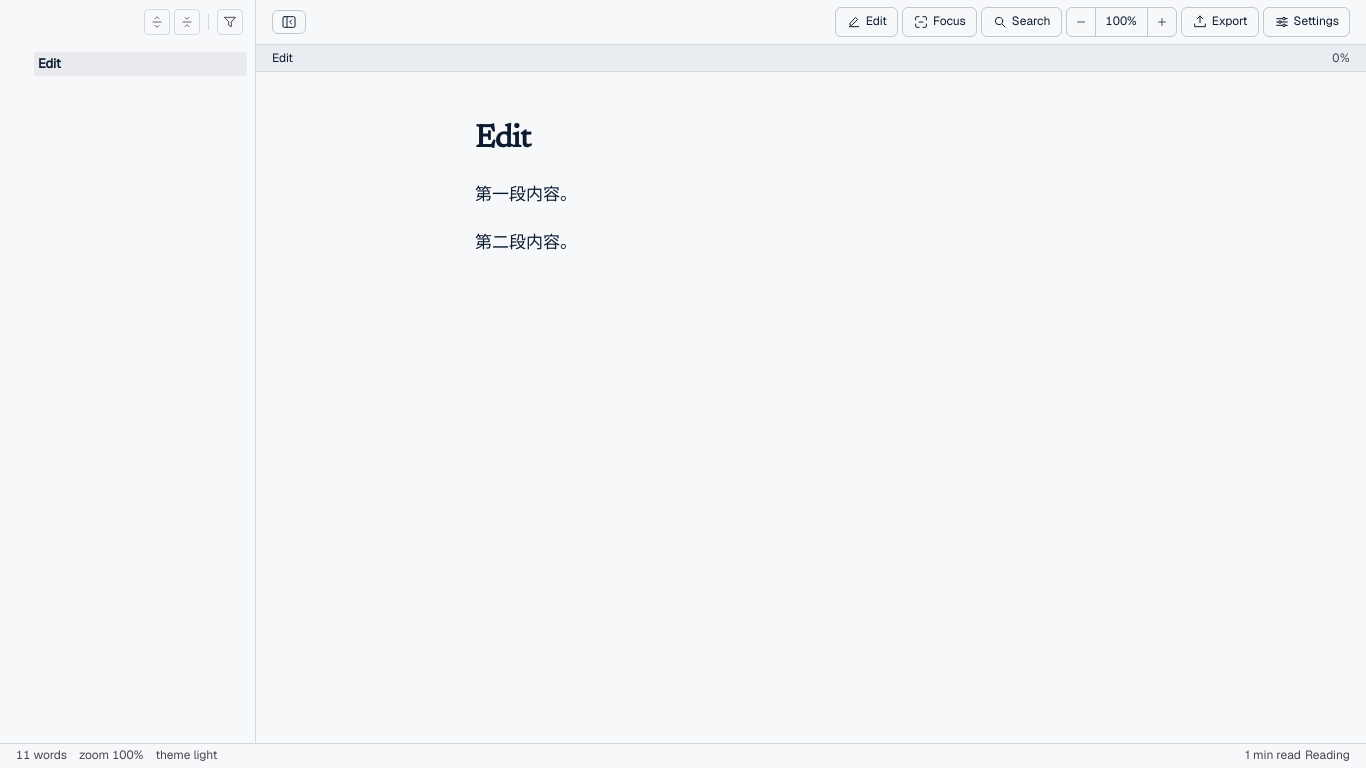
it: 编辑手册入口（§7.5） › Escape 先收手册：焦点归位触发器，编辑模式与把手原地不动
Click the button with aria-label "Edit mode" at (866, 22), box [835,7,898,37]
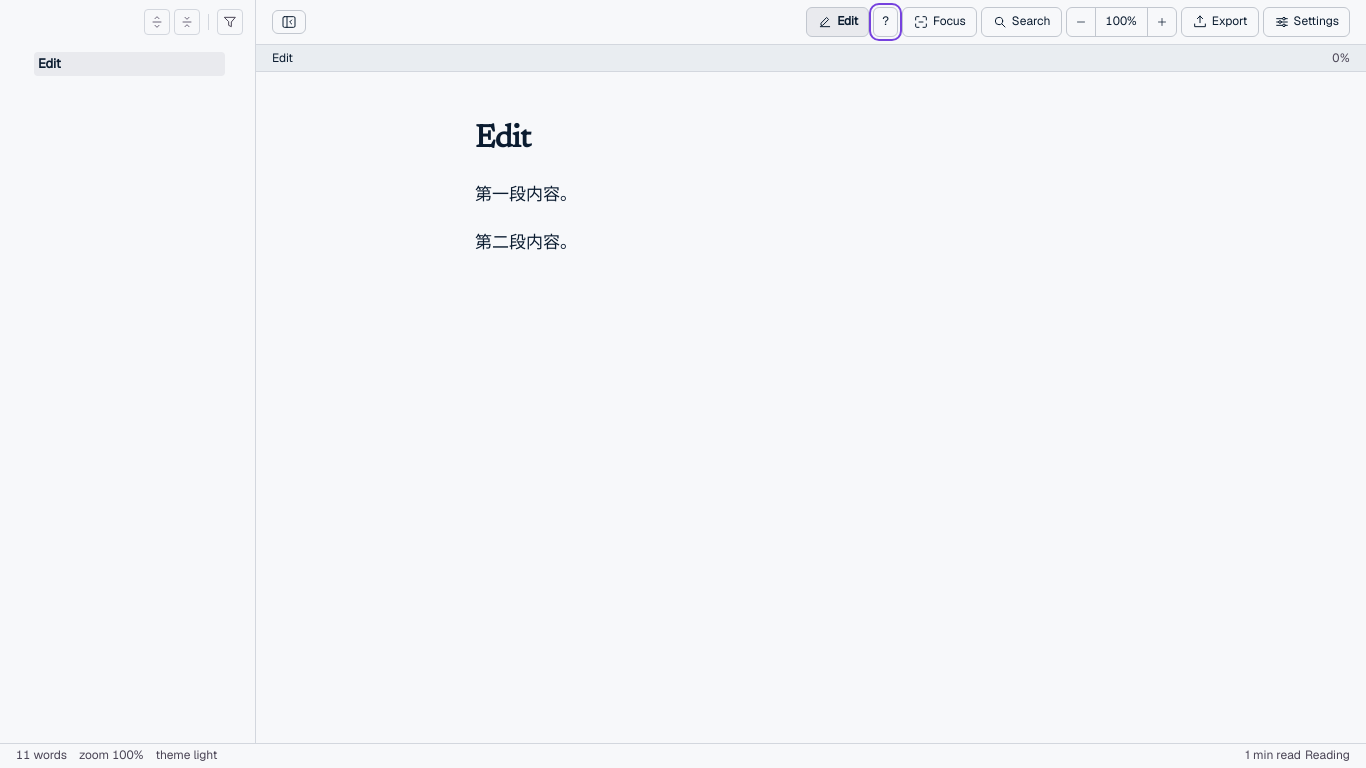
Click the button named "Editing guide" at (886, 22), box [873,7,898,37]
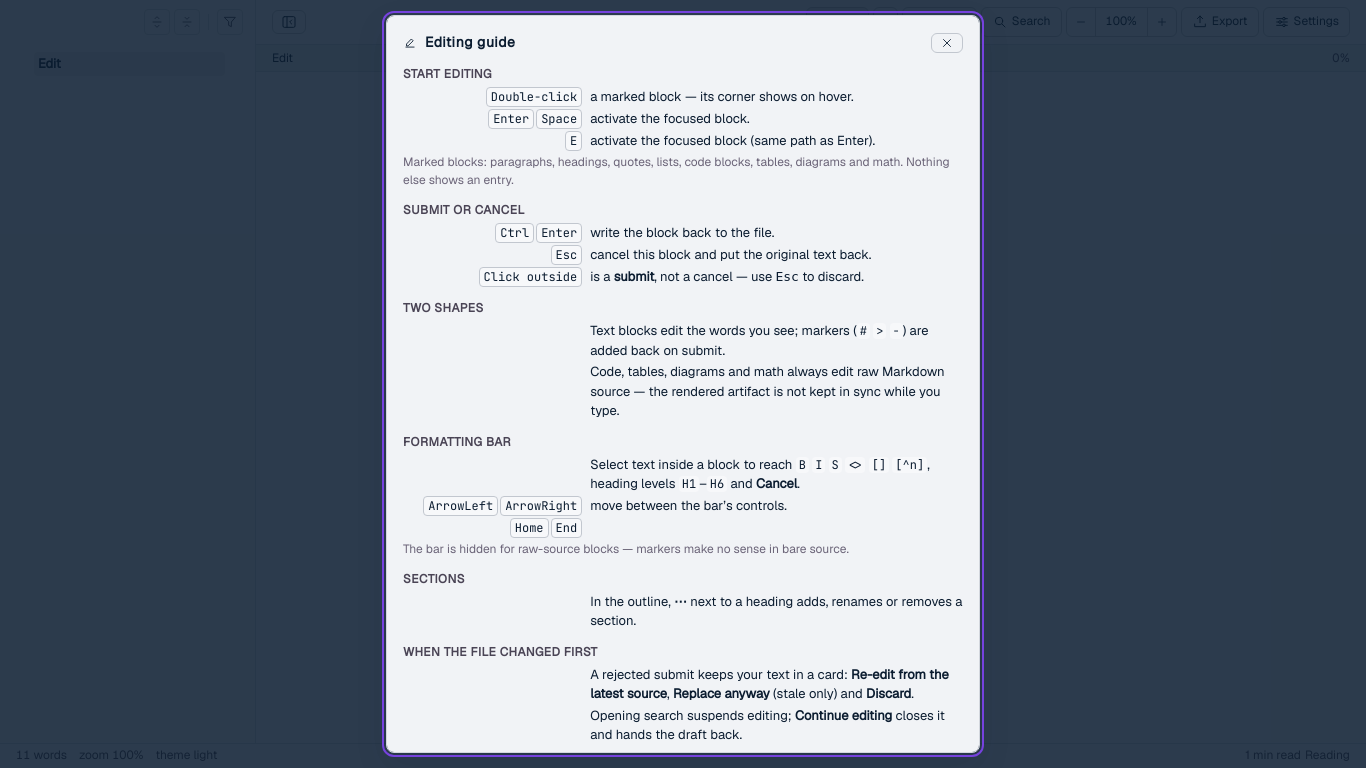
Press Escape in the dialog, box [386,15,980,753]
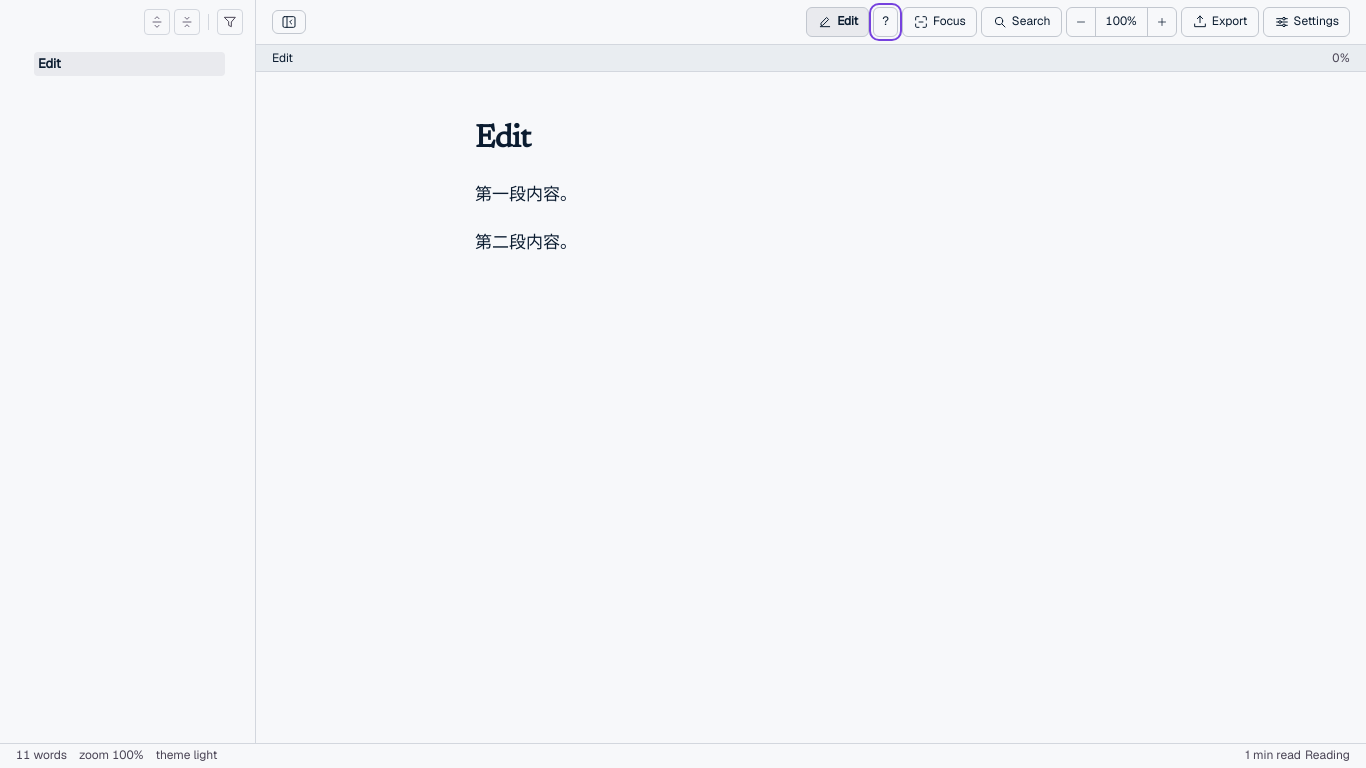
Expected: the button named "Editing guide" is collapsed, [873,7,898,37]
